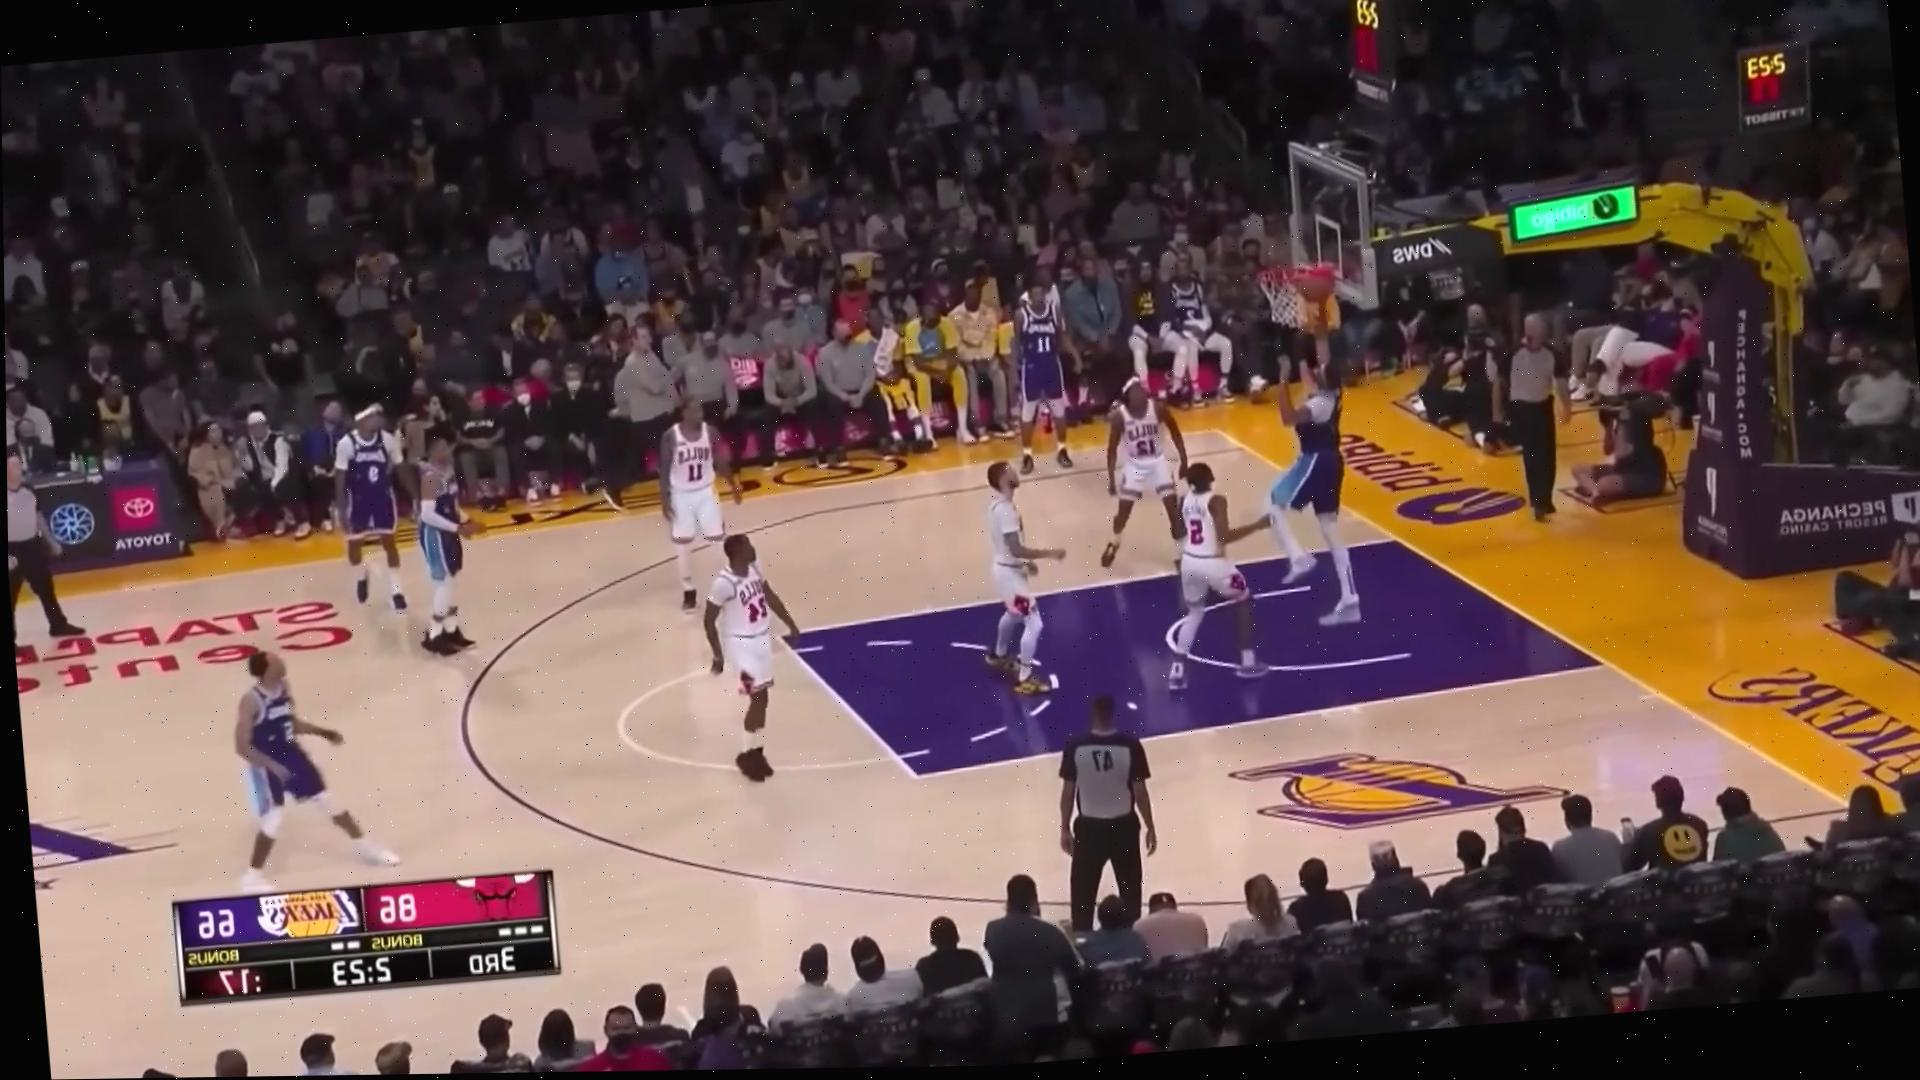no_foul: (1129, 348, 1394, 684)
